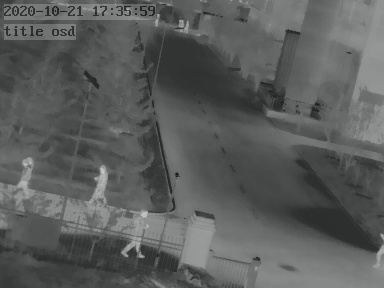person: (123, 208, 148, 257), (88, 160, 108, 205), (16, 154, 33, 195), (153, 12, 160, 27), (183, 19, 190, 33), (177, 19, 184, 33)
